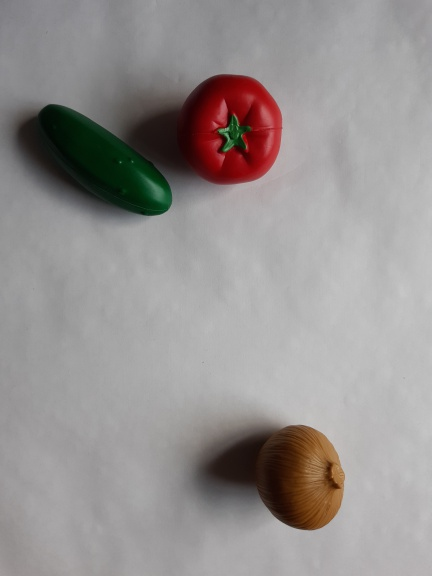cucumber: (24, 95, 178, 221)
onion: (242, 421, 354, 543)
tomato: (176, 69, 294, 197)
